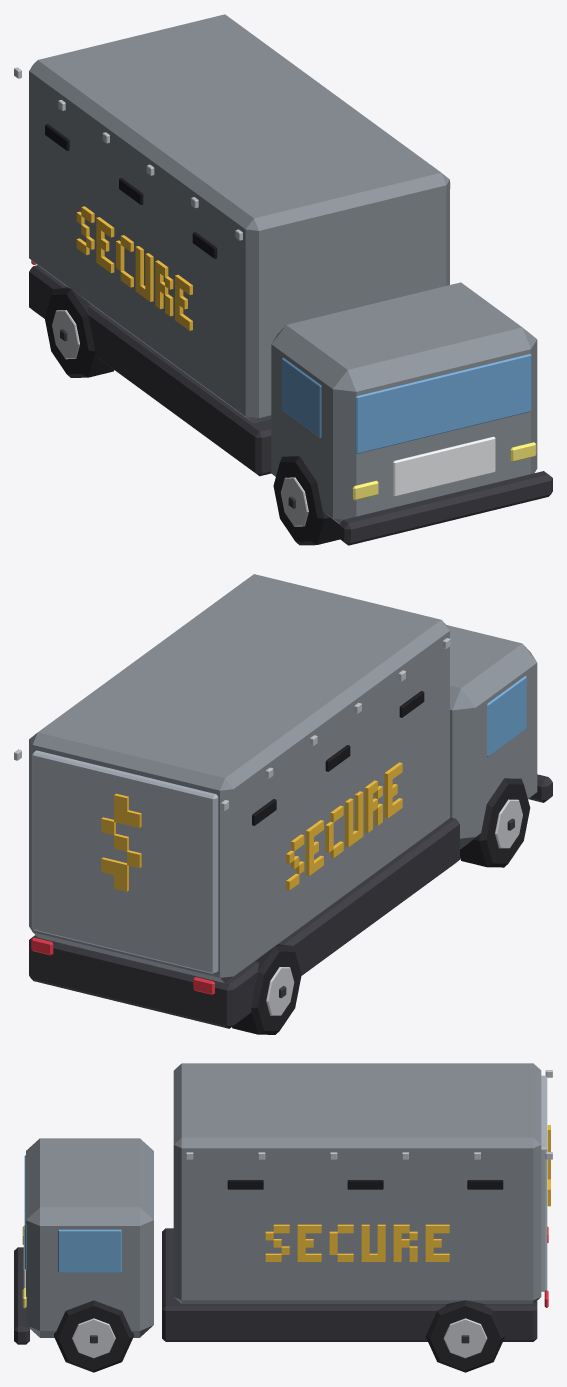
File: ArmoredTruck.fbx
3 renders of one model, top to bottom at view 1: azimuth 30°, elevation 25°; view 2: azimuth 150°, elevation 25°; view 3: azimuth 270°, elevation 25°, orthographic. The views are drawn at different scales.
Parts seen in each view (by area): view 1: ArmoredTruck, ArmoredTruck_WheelFR, ArmoredTruck_WheelBR; view 2: ArmoredTruck, ArmoredTruck_WheelFR, ArmoredTruck_WheelBR; view 3: ArmoredTruck, ArmoredTruck_WheelBL, ArmoredTruck_WheelFL.
Part boxes in pixels (x1,y1,x2,y2): ArmoredTruck: (14, 14, 552, 545); ArmoredTruck_WheelFR: (273, 456, 339, 545); ArmoredTruck_WheelBR: (44, 287, 114, 377); ArmoredTruck: (14, 574, 552, 1028); ArmoredTruck_WheelFR: (460, 778, 530, 867); ArmoredTruck_WheelBR: (232, 944, 301, 1034); ArmoredTruck: (14, 1063, 552, 1344); ArmoredTruck_WheelBL: (425, 1300, 505, 1372); ArmoredTruck_WheelFL: (54, 1300, 133, 1372).
Size of the model in its own units: 5.22 by 6.4 by 13.49.
1 material, 1 textured.
